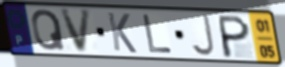J: (189, 13, 217, 57)
K: (105, 11, 139, 55)
L: (141, 13, 175, 55)
P: (218, 14, 252, 60)
Q: (30, 8, 68, 52)
V: (58, 8, 93, 55)
